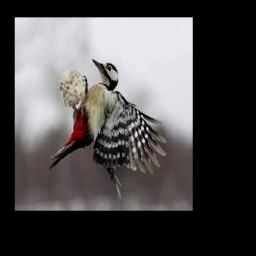Woodpecker: (49, 59, 167, 198)
